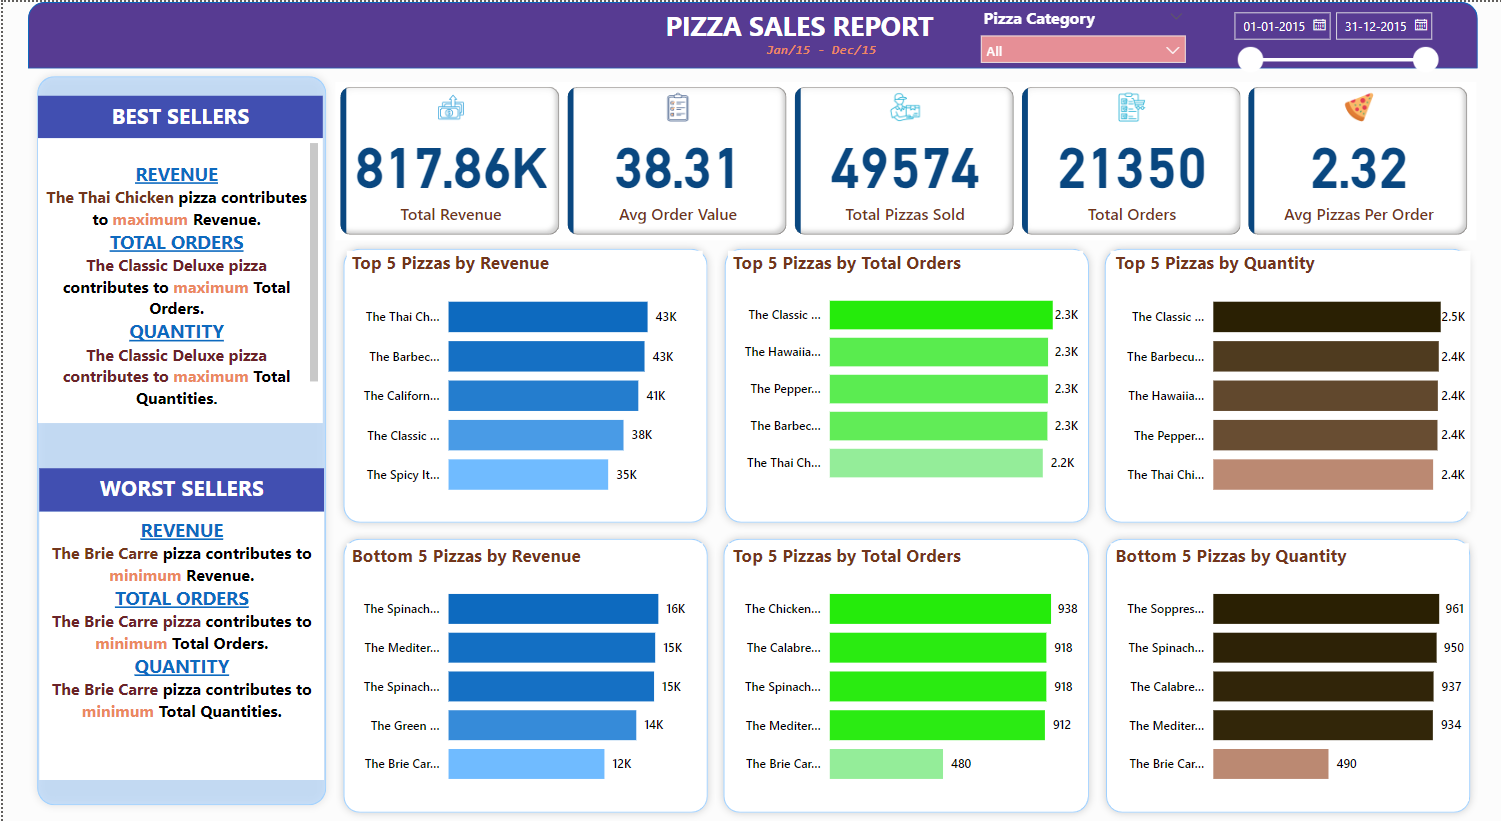

The dashboard page shown, as its layout file describes it:
{"tool":"powerbi","page":{"name":"Best/Worst Sellers","canvas":[1500,820],"ordinal":1},"visuals":[{"type":"cardVisual","fields":{"Data":["pizza_sales.Total Revenue","pizza_sales.Avg Order Value","pizza_sales.Total Pizzas Sold","pizza_sales.Total Orders","pizza_sales.Avg Pizzas Per Order"]},"box":[332.5,80.4,1140.5,158.1],"z":0},{"type":"shape","box":[24.5,0,1449.9,66.8],"z":1000},{"type":"textbox","box":[485.1,0,622.7,50.4],"z":2000},{"type":"textbox","box":[749.5,32.7,136.3,34.1],"z":3000},{"type":"shape","box":[332.5,238.5,380,290],"z":4000},{"type":"shape","box":[25.7,65.9,305,745],"z":5000},{"type":"textbox","box":[34.9,93.8,285.1,42.1],"z":6000},{"type":"slicer","fields":{"Values":["pizza_sales.order_date"]},"box":[1218.2,0,224.8,80.4],"z":7000},{"type":"slicer","fields":{"Values":["pizza_sales.pizza_category"]},"box":[967.5,0,224.8,66.8],"z":8000},{"type":"shape","box":[714,238.5,380.2,290],"z":9000},{"type":"shape","box":[1094.2,238.5,380.2,290],"z":10000},{"type":"shape","box":[332.1,528.2,380.2,290],"z":11000},{"type":"shape","box":[712.2,528.2,381.4,290],"z":12000},{"type":"shape","box":[1094.8,529.4,380.2,290],"z":13000},{"type":"barChart","title":"Top 5 Pizzas by Revenue","fields":{"Category":["pizza_sales.pizza_name"],"Y":["pizza_sales.Total Revenue"]},"box":[344.1,249,356.1,261.1],"z":14000},{"type":"barChart","title":"Bottom 5 Pizzas by Revenue","fields":{"Category":["pizza_sales.pizza_name"],"Y":["pizza_sales.Total Revenue"]},"box":[344.1,541.4,356.1,257.5],"z":15000},{"type":"barChart","title":"Top 5 Pizzas by Quantity","fields":{"Category":["pizza_sales.pizza_name"],"Y":["pizza_sales.Total Pizzas Sold"]},"box":[1108,249,359.7,261.1],"z":16000},{"type":"barChart","title":"Top 5 Pizzas by Total Orders","fields":{"Category":["pizza_sales.pizza_name"],"Y":["pizza_sales.Total Orders"]},"box":[725.2,249.3,355.4,247.6],"z":17000},{"type":"barChart","title":"Bottom 5 Pizzas by Quantity","fields":{"Category":["pizza_sales.pizza_name"],"Y":["pizza_sales.Total Pizzas Sold"]},"box":[1108,541.4,358.5,257.5],"z":18000},{"type":"barChart","title":"Top 5 Pizzas by Total Orders","fields":{"Category":["pizza_sales.pizza_name"],"Y":["pizza_sales.Total Orders"]},"box":[725.5,541.4,354.9,257.5],"z":19000},{"type":"textbox","box":[36.1,466.8,285,43.3],"z":20000},{"type":"textbox","box":[34.9,135.9,285.1,285.1],"z":21000},{"type":"textbox","box":[36.1,510.1,285.1,268.3],"z":22000}]}

Visuals, with their boxes in screenshot pixels (x1, y1, x2, y2), scaled from the page's 1500x820 canvas onto the 1501x821 screenshot:
cardVisual - pizza_sales.Total Revenue x pizza_sales.Avg Order Value: 333,80,1474,239
shape: 25,0,1475,67
textbox: 485,0,1109,50
textbox: 750,33,886,67
shape: 333,239,713,529
shape: 26,66,331,812
textbox: 35,94,320,136
slicer - pizza_sales.order_date: 1219,0,1444,80
slicer - pizza_sales.pizza_category: 968,0,1193,67
shape: 714,239,1095,529
shape: 1095,239,1475,529
shape: 332,529,713,819
shape: 713,529,1094,819
shape: 1096,530,1476,820
"Top 5 Pizzas by Revenue" barChart: 344,249,701,511
"Bottom 5 Pizzas by Revenue" barChart: 344,542,701,800
"Top 5 Pizzas by Quantity" barChart: 1109,249,1469,511
"Top 5 Pizzas by Total Orders" barChart: 726,250,1081,498
"Bottom 5 Pizzas by Quantity" barChart: 1109,542,1467,800
"Top 5 Pizzas by Total Orders" barChart: 726,542,1081,800
textbox: 36,467,321,511
textbox: 35,136,320,422
textbox: 36,511,321,779
